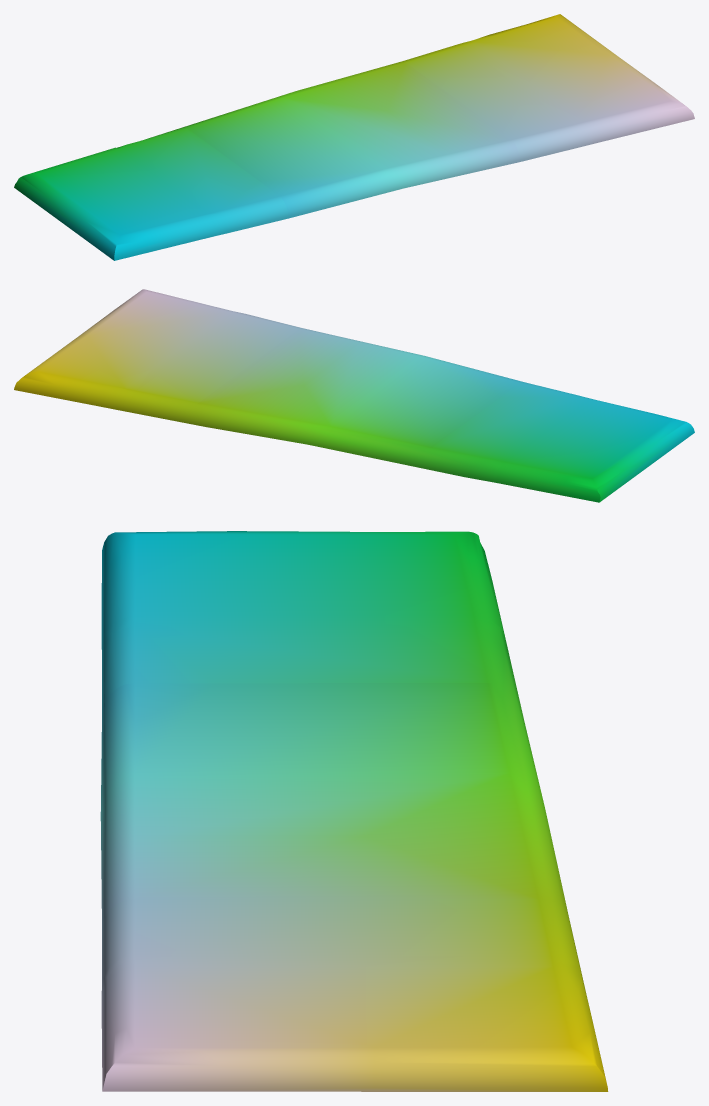
File: SM_ROAD_19_5_5_19_buffer.FBX
The picture shows the model from 3 angles, top to bottom: view 1: azimuth 30°, elevation 25°; view 2: azimuth 150°, elevation 25°; view 3: azimuth 270°, elevation 25°; orthographic projection. The views are drawn at different scales.
Parts seen in each view (by area): view 1: SM_ROAD_19_5_5_19_buffer; view 2: SM_ROAD_19_5_5_19_buffer; view 3: SM_ROAD_19_5_5_19_buffer.
Boxes of the visible parts, bbox=[...] form: SM_ROAD_19_5_5_19_buffer: bbox=[14, 14, 694, 260]; SM_ROAD_19_5_5_19_buffer: bbox=[14, 289, 694, 502]; SM_ROAD_19_5_5_19_buffer: bbox=[100, 531, 608, 1091].
Bounding box in the file's own units: 2005 × 794 × 59.62.
